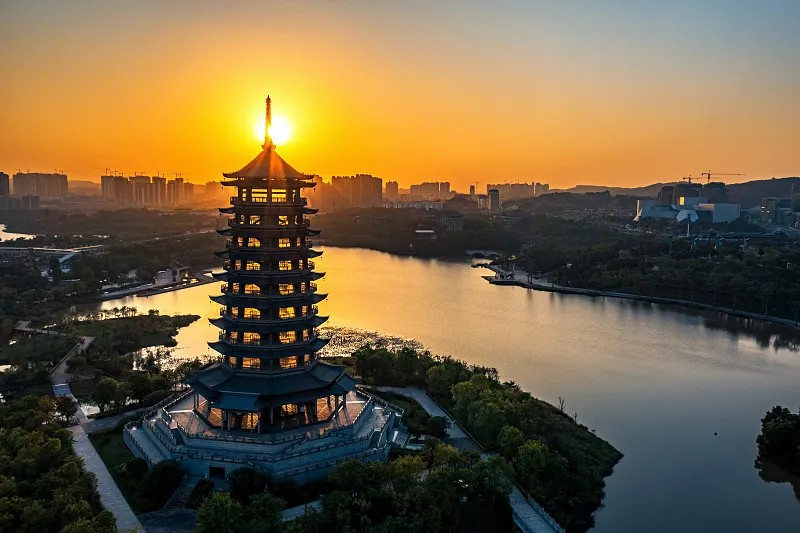Leifeng: (189, 95, 356, 435)
